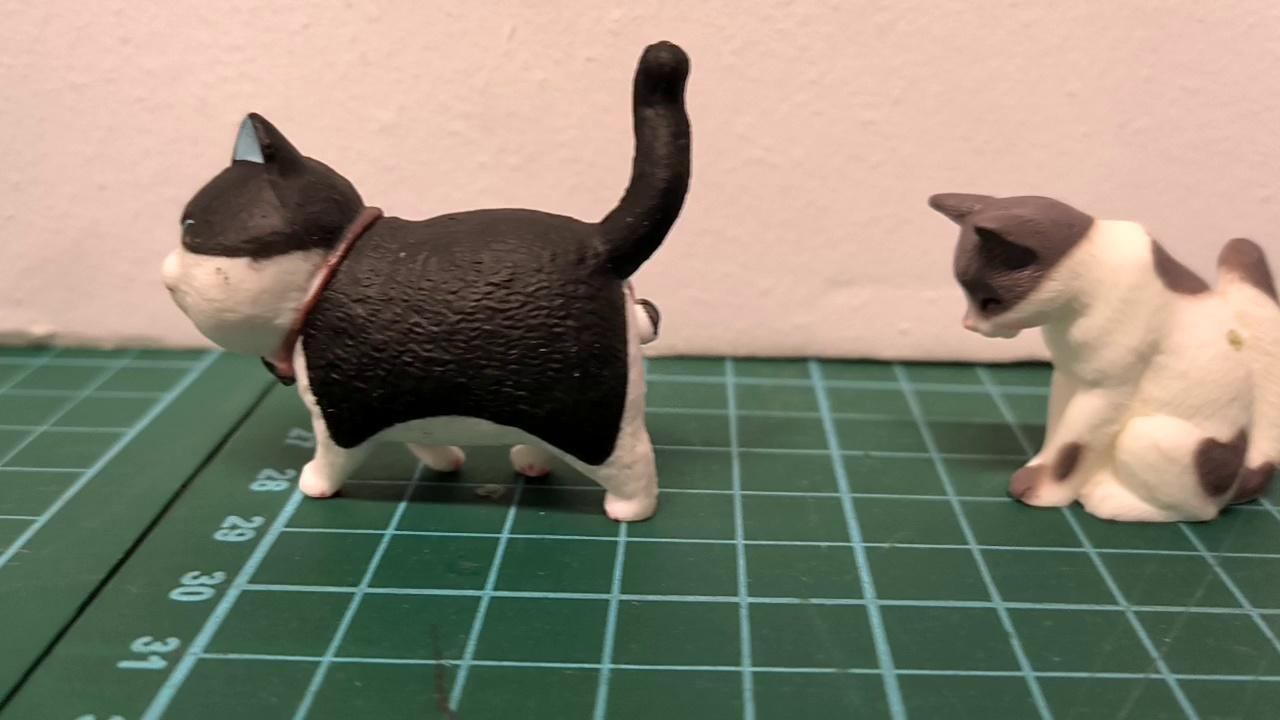pet: (149, 34, 702, 531), (919, 181, 1280, 530)
